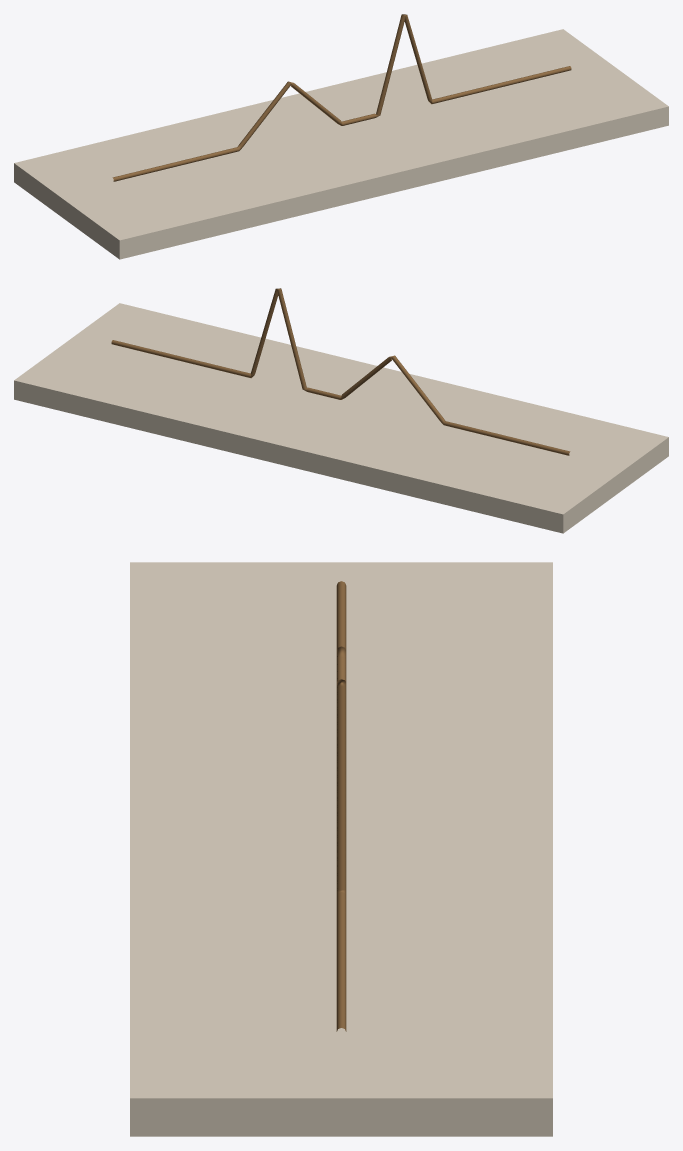
The model's file is pulse-roof.glb.
3 renders of one model, top to bottom at view 1: azimuth 30°, elevation 25°; view 2: azimuth 150°, elevation 25°; view 3: azimuth 270°, elevation 25°, orthographic. The views are drawn at different scales.
Visible parts, largest first — view 1: Travertine plinth, Single bronze pulse; view 2: Travertine plinth, Single bronze pulse; view 3: Travertine plinth, Single bronze pulse.
Boxes of the visible parts, bbox=[...] form: Travertine plinth: bbox=[14, 29, 668, 259]; Single bronze pulse: bbox=[112, 14, 571, 181]; Travertine plinth: bbox=[14, 303, 668, 533]; Single bronze pulse: bbox=[111, 288, 570, 455]; Travertine plinth: bbox=[130, 562, 552, 1136]; Single bronze pulse: bbox=[336, 581, 346, 1031].
Size of the model in its own units: 4.8 by 1.04 by 1.6.
